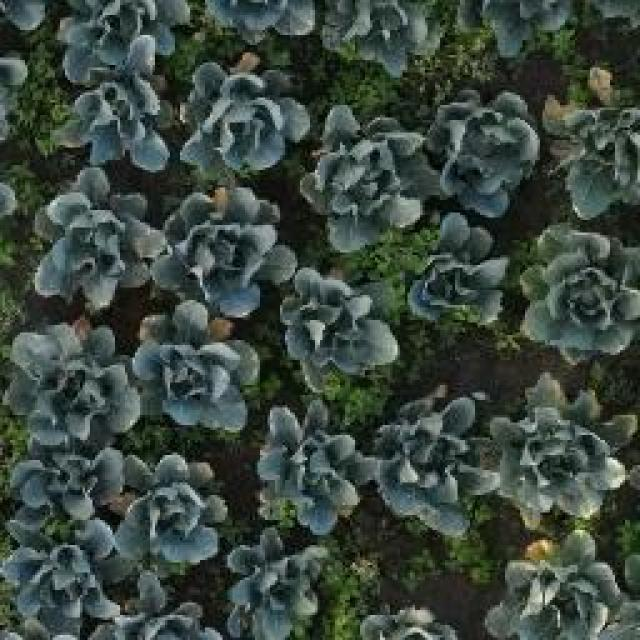cabbage: (491, 389, 624, 512), (158, 194, 296, 310), (7, 323, 136, 444), (43, 177, 161, 304), (1, 510, 125, 626), (522, 228, 640, 348), (372, 402, 490, 520), (315, 112, 423, 238), (135, 307, 247, 425), (54, 69, 178, 171), (185, 66, 304, 172), (253, 408, 363, 521), (509, 539, 629, 640), (117, 449, 230, 555), (428, 97, 536, 205), (284, 277, 395, 375), (555, 91, 640, 207), (225, 540, 327, 634), (410, 226, 514, 316), (7, 447, 112, 524)
